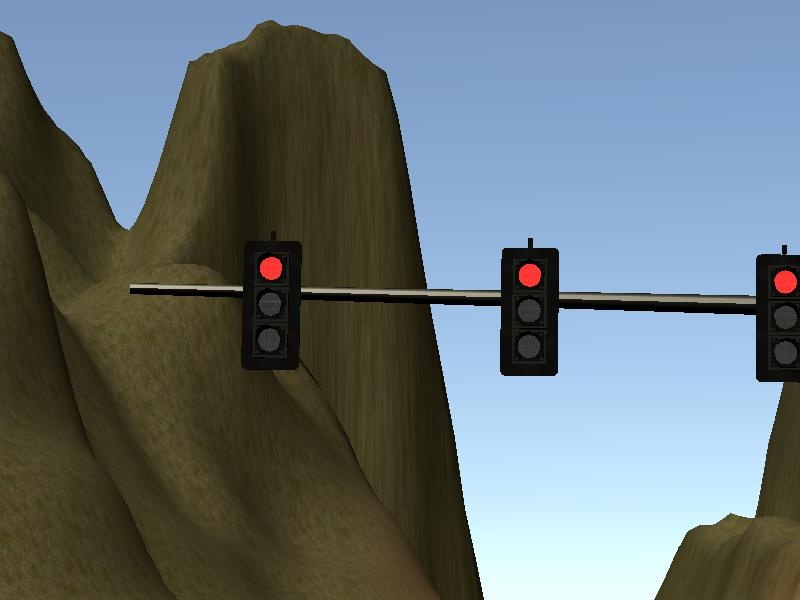red: (492, 235, 566, 380), (236, 231, 307, 374), (750, 245, 800, 390)
